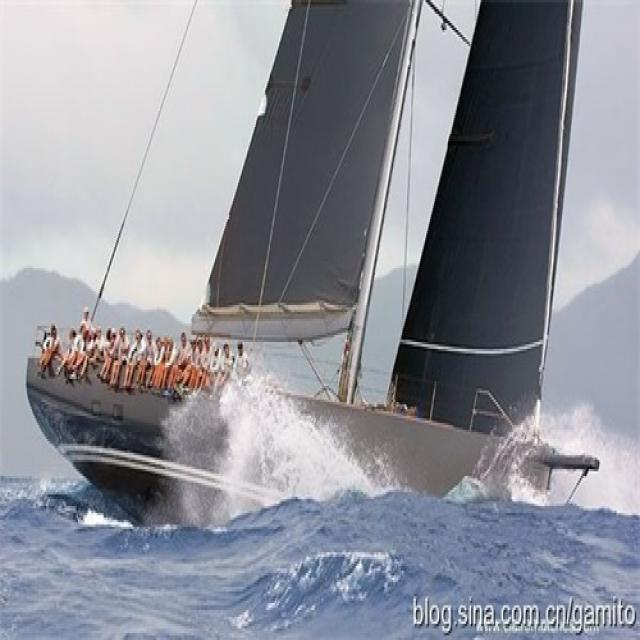Ship: (16, 3, 591, 525)
